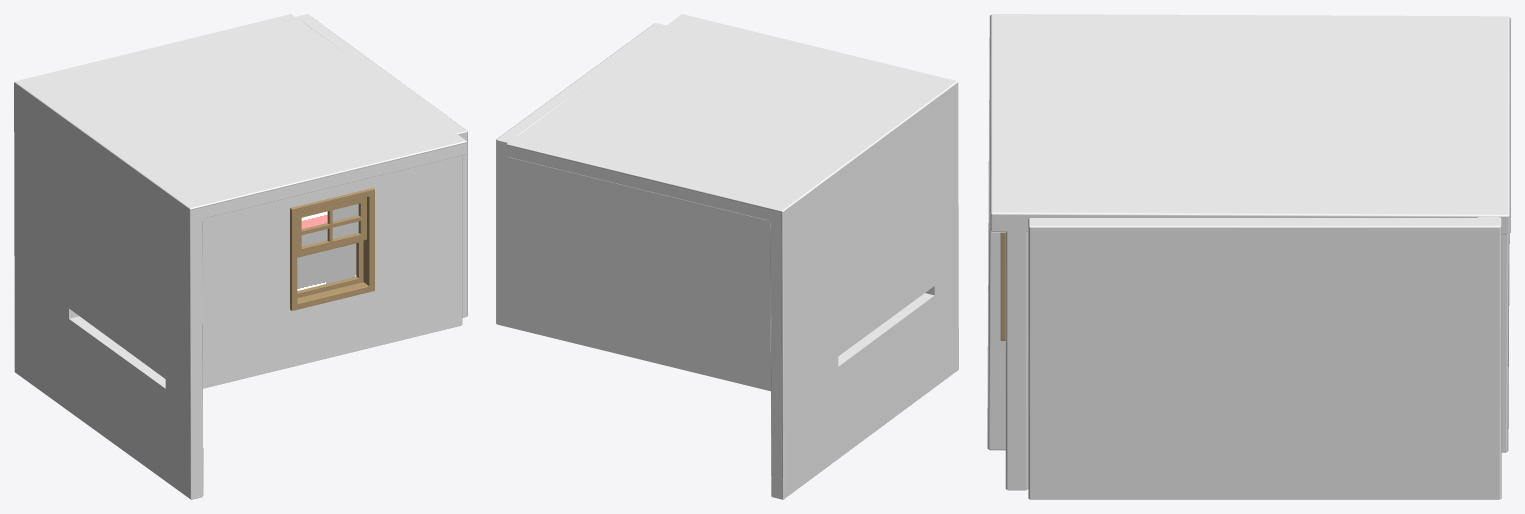
Rendered from Another bedroom.fbx.
3 views of the same model, side by side, from view 1: azimuth 30°, elevation 25°; view 2: azimuth 150°, elevation 25°; view 3: azimuth 270°, elevation 25° (orthographic). The views are drawn at different scales.
Visible parts, largest first — view 1: Wall.003, Wall, Wall.001, Window, Wall.002; view 2: Wall.003, Wall.001, Wall.002, Wall; view 3: Wall.002, Wall.003, Wall, Window.
Part boxes in pixels (left/top/right/bottom): Wall.003: left=14, top=14, right=467, bottom=499; Wall: left=24, top=92, right=462, bottom=388; Wall.001: left=17, top=86, right=176, bottom=385; Window: left=290, top=188, right=374, bottom=310; Wall.002: left=296, top=14, right=467, bottom=317; Wall.003: left=506, top=14, right=958, bottom=499; Wall.001: left=509, top=147, right=945, bottom=389; Wall.002: left=496, top=23, right=770, bottom=391; Wall: left=794, top=89, right=952, bottom=379; Wall.002: left=1028, top=216, right=1501, bottom=499; Wall.003: left=987, top=14, right=1510, bottom=452; Wall: left=1005, top=218, right=1028, bottom=490; Window: left=1000, top=232, right=1005, bottom=340.
Size of the model in its own units: 880 by 844 by 929.
